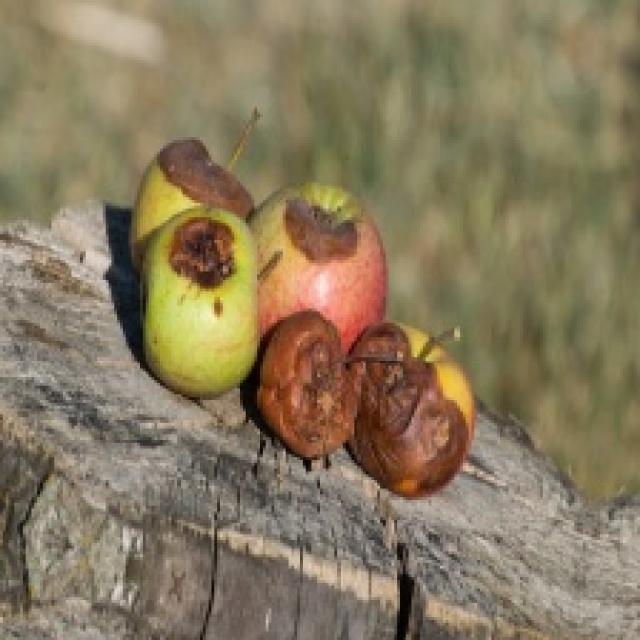rotten_apple: (141, 212, 260, 387), (362, 324, 474, 496), (262, 185, 383, 315), (255, 316, 355, 456), (140, 139, 252, 208)
